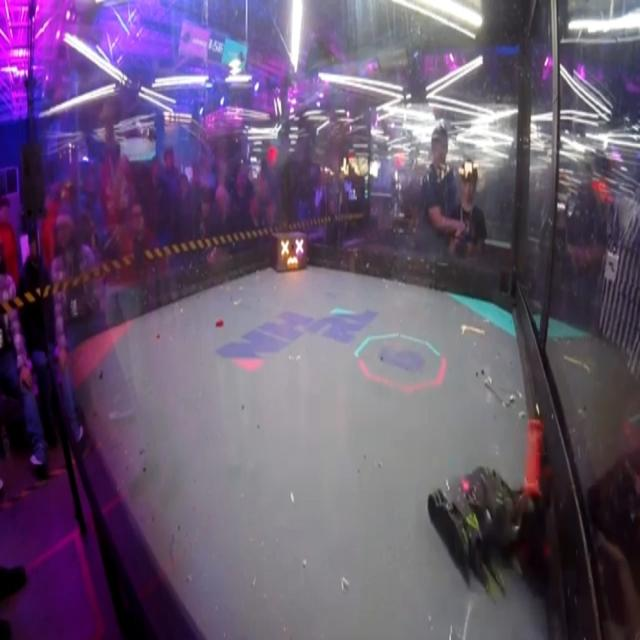brick: (269, 228, 311, 275)
